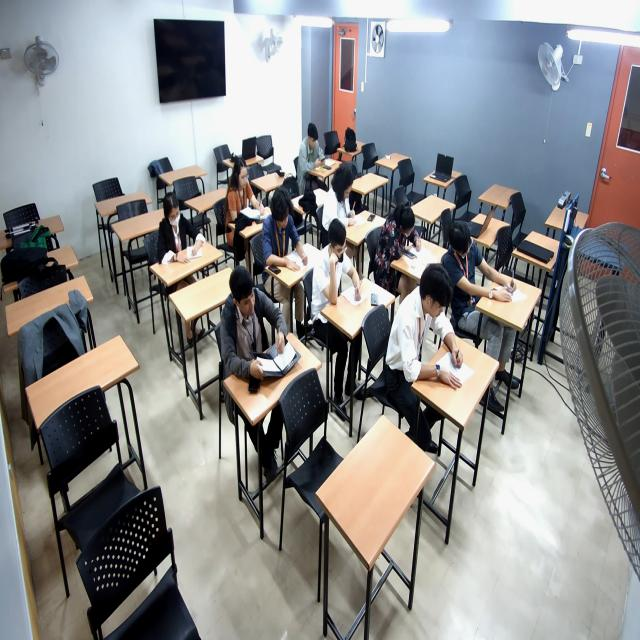read: (394, 279, 472, 403), (221, 274, 298, 392), (448, 224, 525, 320), (317, 223, 376, 317), (263, 198, 315, 291), (158, 198, 208, 268), (384, 203, 429, 273), (226, 164, 269, 233), (329, 175, 367, 240), (302, 125, 332, 182)
